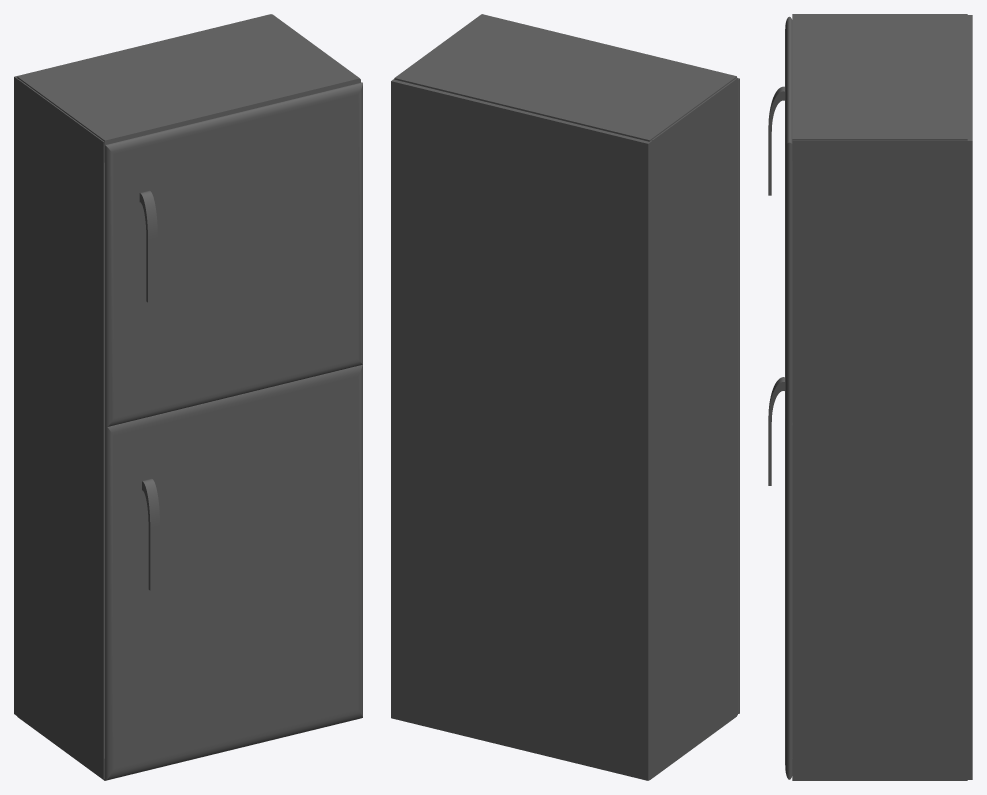
Rendered from refri.obj.
3 renders of one model, left to right at view 1: azimuth 30°, elevation 25°; view 2: azimuth 150°, elevation 25°; view 3: azimuth 270°, elevation 25°, orthographic.
Visible parts, largest first — view 1: refri:polySurface10; view 2: refri:polySurface10; view 3: refri:polySurface10.
Boxes of the visible parts, box(x1,y1,x2,y2) form: refri:polySurface10: box(14, 14, 362, 780); refri:polySurface10: box(391, 14, 739, 780); refri:polySurface10: box(768, 14, 972, 780).
Bounding box in the file's own units: 1.29 × 3.07 × 0.8833.
